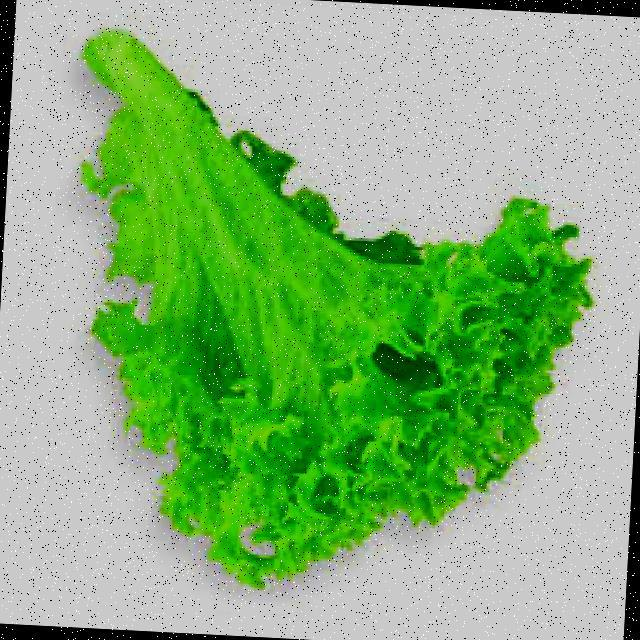healthy: (74, 129, 573, 571)
